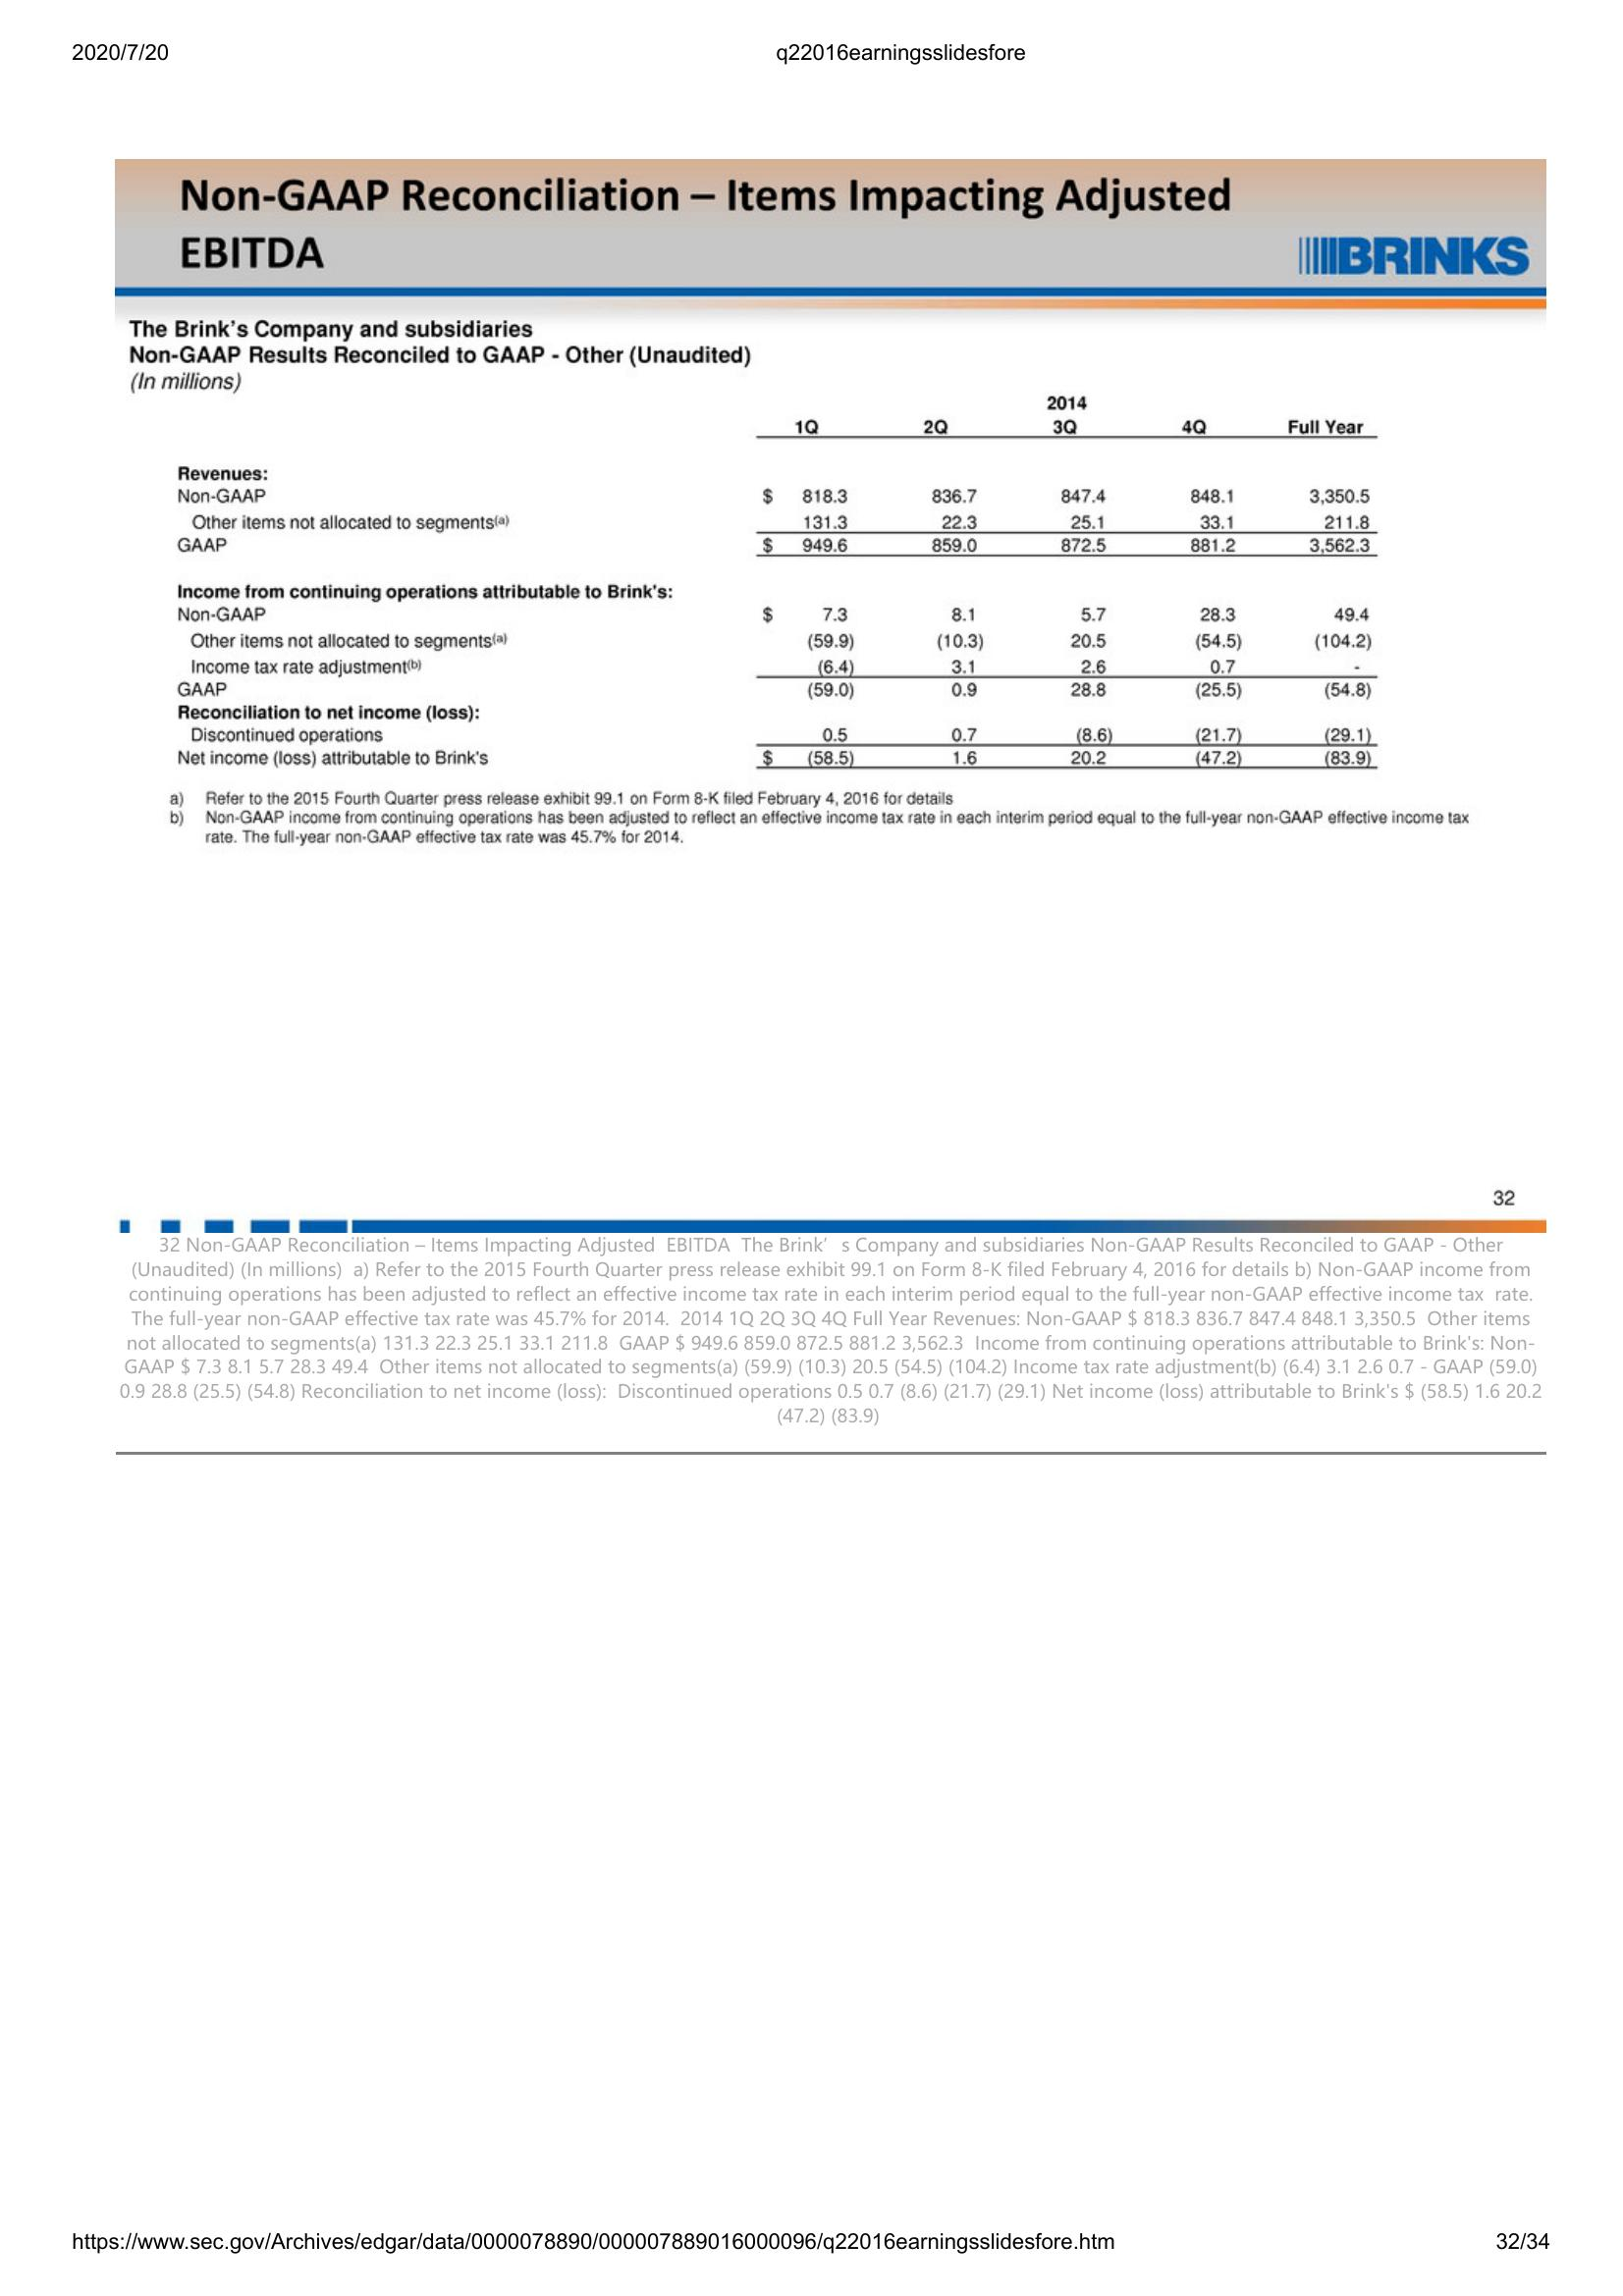table: (179, 393, 1395, 781)
